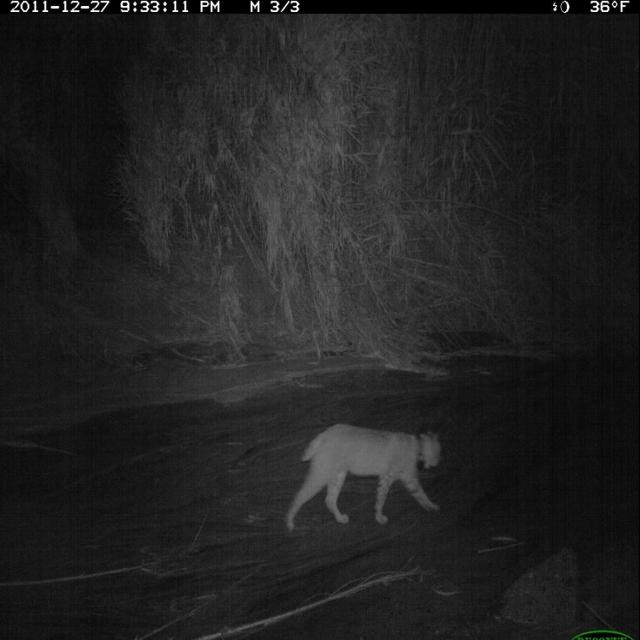bobcat: (279, 419, 457, 543)
